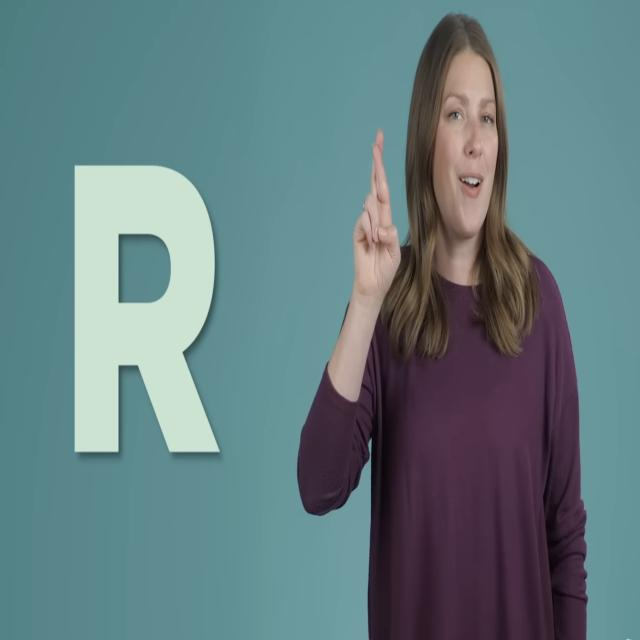R: (336, 115, 410, 318)
